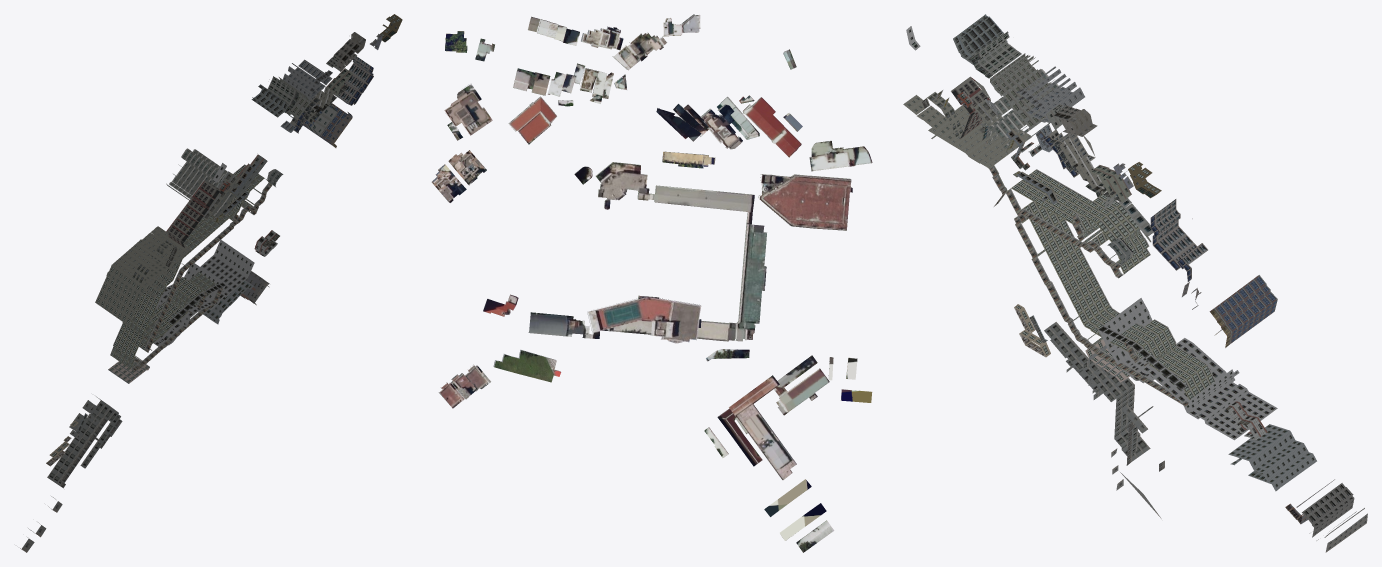
Rendered from tile_LOD8_r7_c0.glb.
The picture shows the model from 3 angles, left to right: view 1: azimuth 30°, elevation 25°; view 2: azimuth 150°, elevation 25°; view 3: azimuth 270°, elevation 25°; orthographic projection. The views are drawn at different scales.
Bounding box in the file's own units: 295 × 332 × 226.
Materials: 193 (193 with a texture image).
